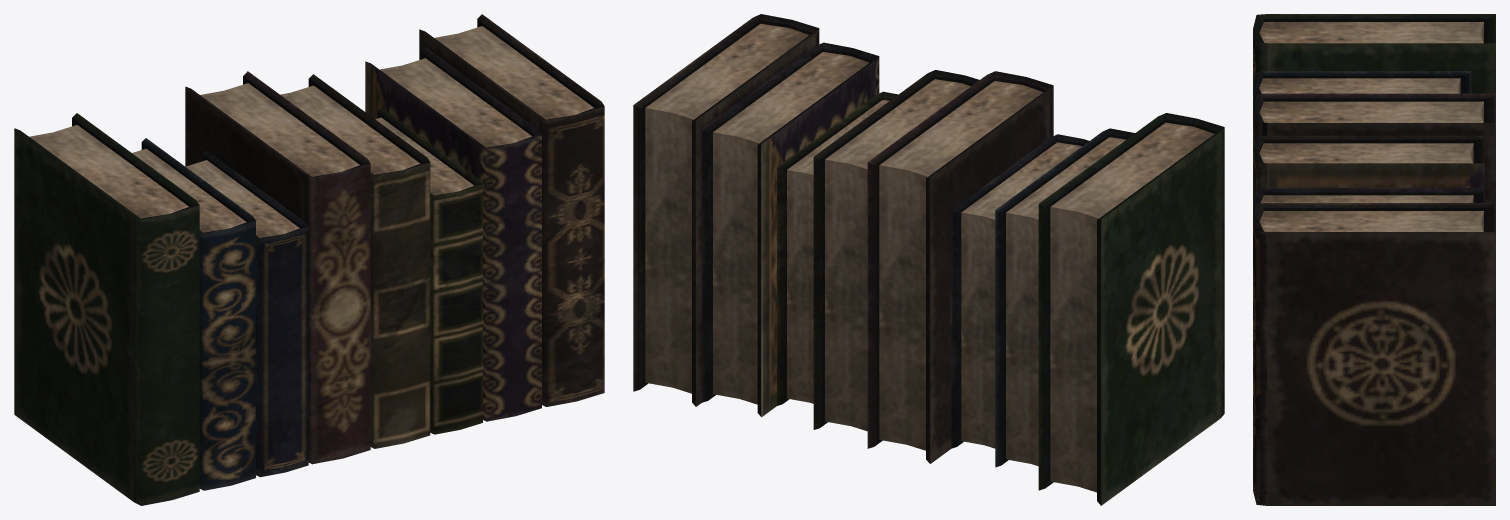
File: book_row03.dae
3 renders of one model, left to right at view 1: azimuth 30°, elevation 25°; view 2: azimuth 150°, elevation 25°; view 3: azimuth 270°, elevation 25°, orthographic. The views are drawn at different scales.
Visible parts, largest first — view 1: polySurface1; view 2: polySurface1; view 3: polySurface1.
Boxes of the visible parts, box(x1,y1,x2,y2) form: polySurface1: box(14, 14, 604, 505); polySurface1: box(633, 14, 1224, 505); polySurface1: box(1253, 14, 1495, 505).
Bounding box in the file's own units: 0.5976 × 0.35 × 0.2811.
